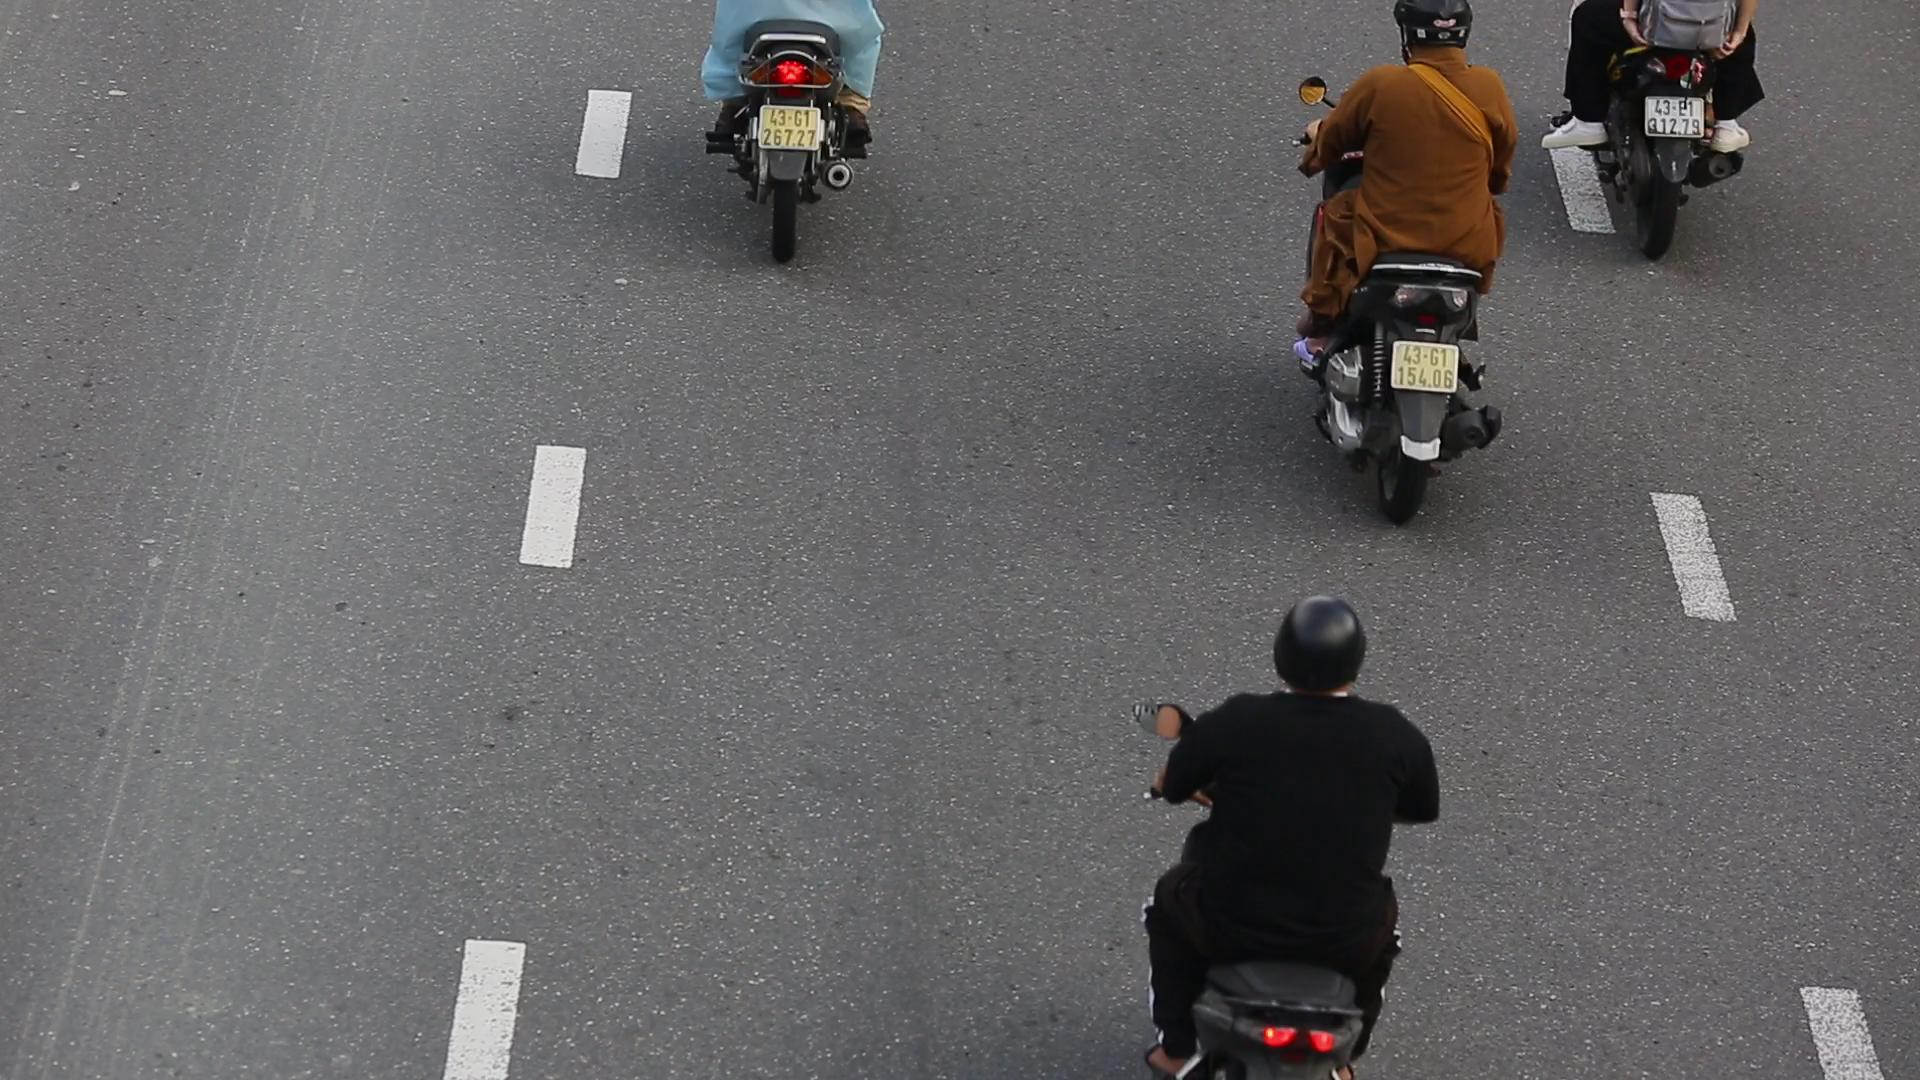motobike: (1282, 0, 1535, 537)
